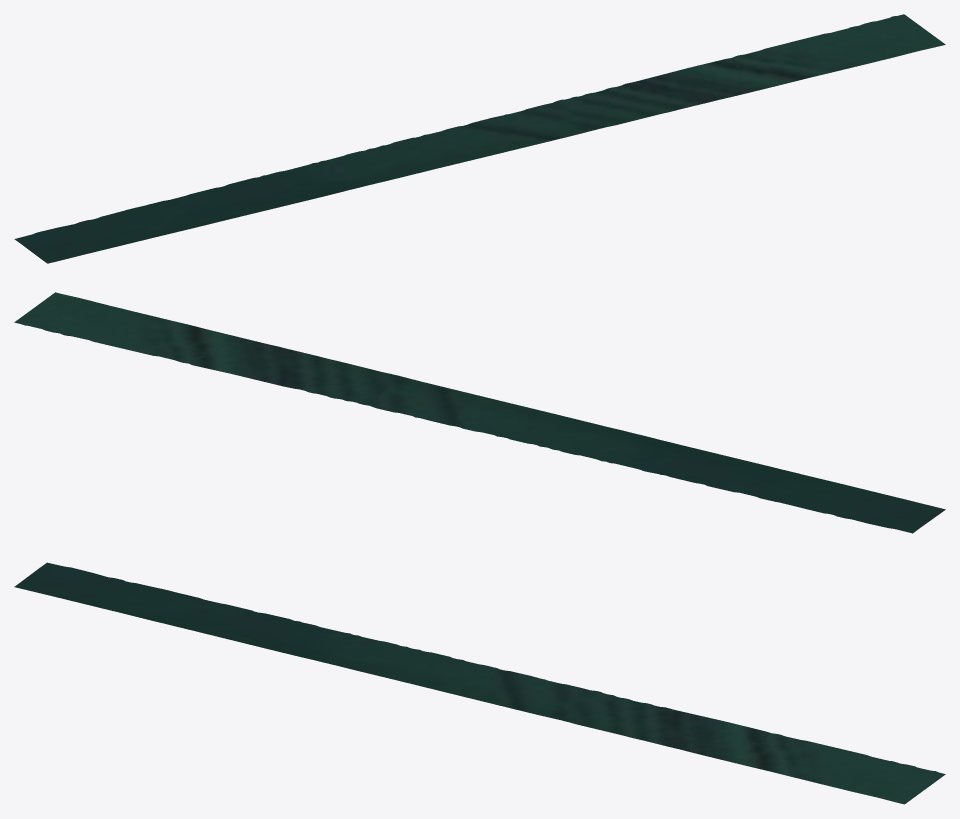
3 renders of one model, top to bottom at view 1: azimuth 30°, elevation 25°; view 2: azimuth 150°, elevation 25°; view 3: azimuth 330°, elevation 25°, orthographic.
Size of the model in its own units: 836 by 0.7515 by 67.99.
Materials: 1 (1 with a texture image).
